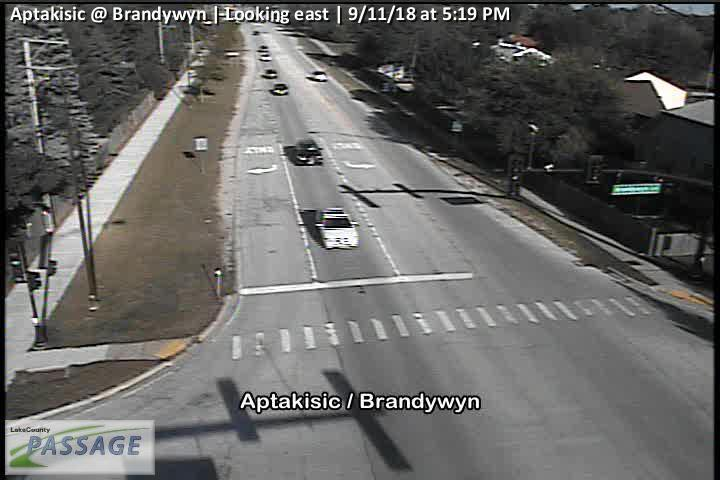Sedan: (293, 140, 324, 165)
Truck: (314, 207, 359, 249)
